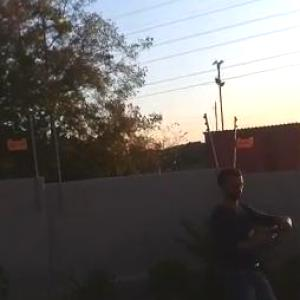follow: (203, 162, 298, 299)
